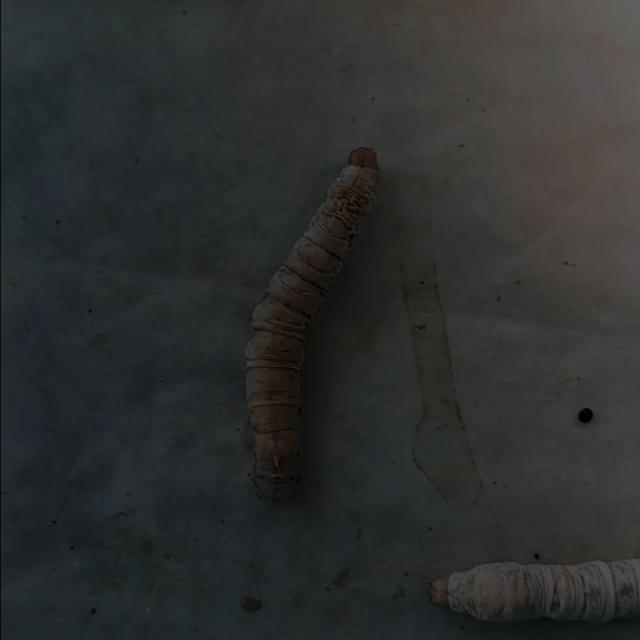Grasserie: (210, 120, 402, 520)
